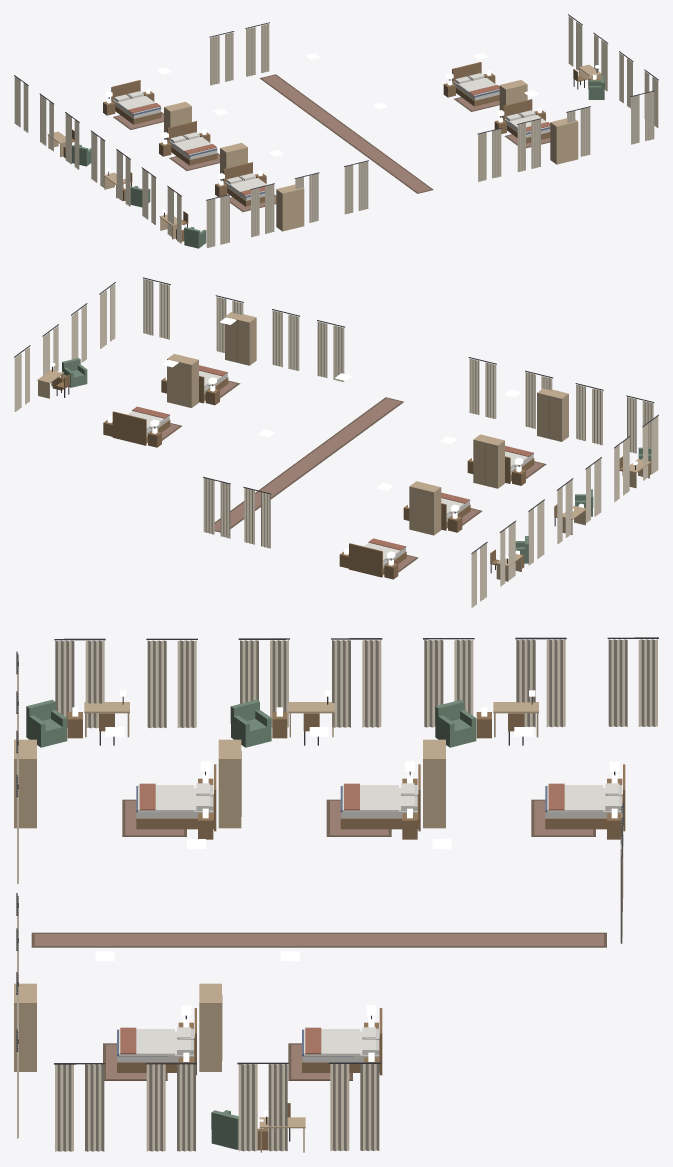
Rendered from fine-s4.glb.
3 renders of one model, top to bottom at view 1: azimuth 30°, elevation 25°; view 2: azimuth 150°, elevation 25°; view 3: azimuth 270°, elevation 25°, orthographic. The views are drawn at different scales.
Visible parts, largest first — view 1: soft-s4, dresser.019, dresser.016, bed-frame.017, bed-frame.018, bed-frame.015, bed-frame.019, bed-frame.016, dresser.015, dresser.018, dresser.017, lounge-chair.015; view 2: soft-s4, dresser.017, dresser.018, dresser.019, dresser.015, dresser.016, bed-frame.015, bed-frame.017, lounge-chair.012; view 3: soft-s4, dresser.018, dresser.015, dresser.017, dresser.019, dresser.016, lounge-chair.013, lounge-chair.015, bed-frame.018, lounge-chair.014, bed-frame.019, bed-frame.017 (+3 smaller).
Part boxes in pixels (x1,y1,x2,y2): soft-s4: (14,14,658,247); dresser.019: (276,184,304,231); dresser.016: (550,118,578,164); bed-frame.017: (111,80,161,124); bed-frame.018: (167,121,217,165); bed-frame.015: (452,62,499,106); bed-frame.019: (223,162,264,206); bed-frame.016: (503,99,550,143); dresser.015: (499,80,527,117); dresser.018: (220,142,247,180); dresser.017: (164,101,191,139); lounge-chair.015: (184,227,206,248); soft-s4: (14,277,658,607); dresser.017: (409,481,441,535); dresser.018: (473,434,504,488); dresser.019: (537,388,568,441); dresser.015: (167,354,198,407); dresser.016: (225,311,256,365); bed-frame.015: (112,411,170,445); bed-frame.017: (349,543,406,577); lounge-chair.012: (62,358,87,387); soft-s4: (16,637,658,1151); dresser.018: (218,739,241,828); dresser.015: (199,983,222,1071); dresser.017: (423,739,445,828); dresser.019: (14,739,36,828); dresser.016: (14,983,36,1071); lounge-chair.013: (435,699,476,747); lounge-chair.015: (26,699,67,747); bed-frame.018: (340,764,420,831); lounge-chair.014: (230,699,271,747); bed-frame.019: (136,764,216,831); bed-frame.017: (545,764,625,831).
Bounding box in the file's own units: 26.46 × 2.82 × 16.93.
